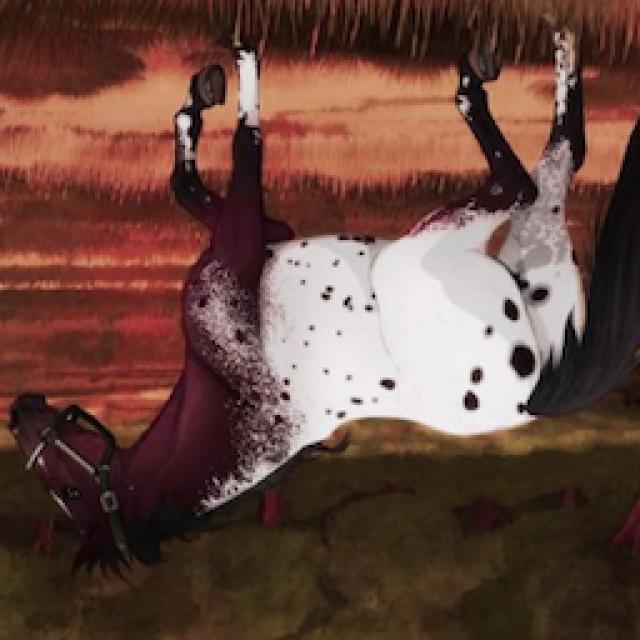Horse: (0, 18, 638, 588)
